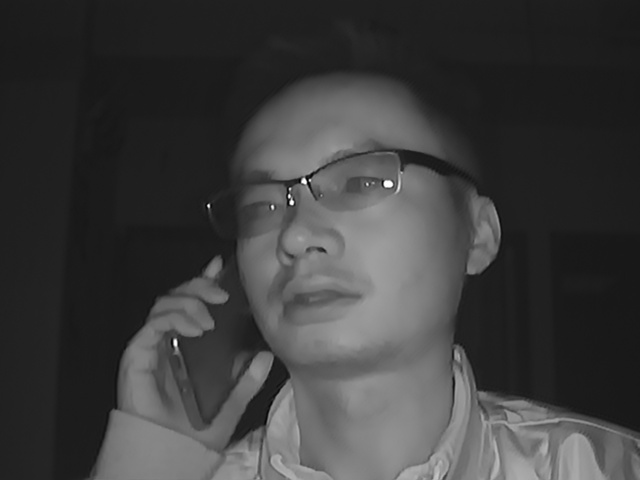hand: (112, 273, 237, 442)
